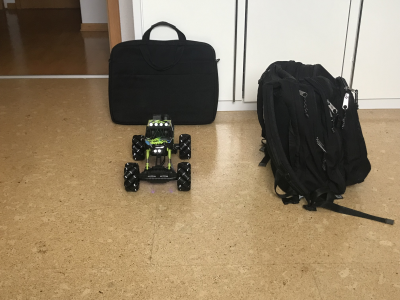remote control car: (122, 112, 195, 195)
